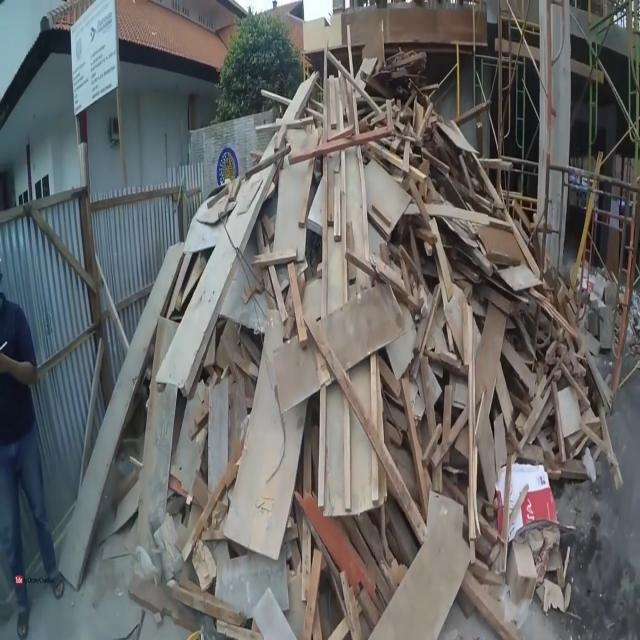Building: (168, 116, 536, 615), (1, 0, 301, 192)
